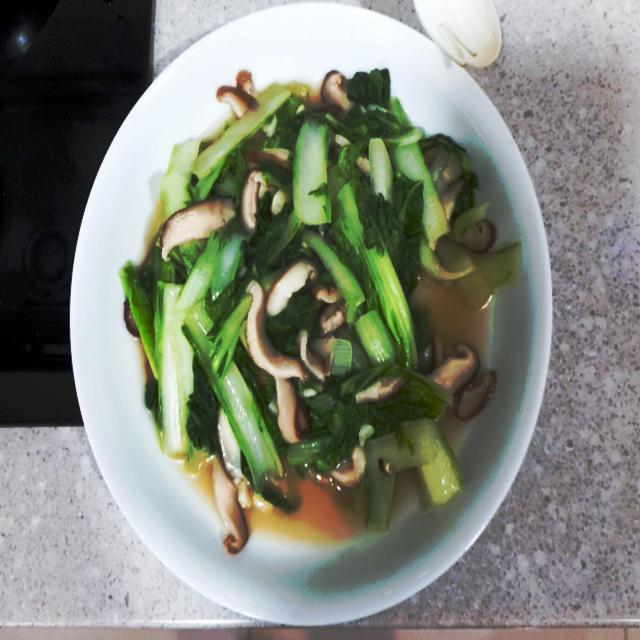chinese_cabbage: (130, 96, 483, 531)
